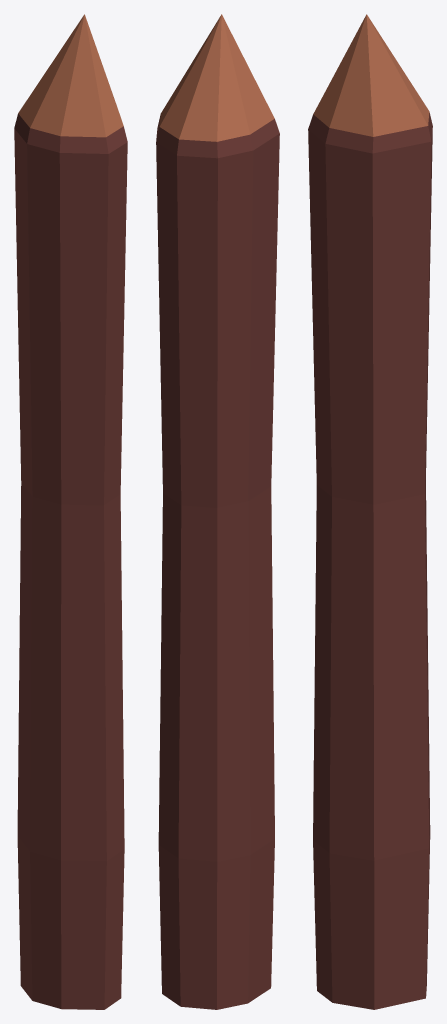
The model's file is Wooden Pole Sharp 11.fbx.
The picture shows the model from 3 angles, left to right: view 1: azimuth 90°, elevation 25°; view 2: azimuth 150°, elevation 25°; view 3: azimuth 330°, elevation 25°; orthographic projection.
Parts seen in each view (by area): view 1: Wooden Pole Sharp 11; view 2: Wooden Pole Sharp 11; view 3: Wooden Pole Sharp 11.
Boxes of the visible parts, x1,y1,x2,y2 form: Wooden Pole Sharp 11: (14,14,127,1009); Wooden Pole Sharp 11: (156,14,279,1009); Wooden Pole Sharp 11: (308,14,432,1009).
Bounding box in the file's own units: 30.54 × 281 × 29.58.
